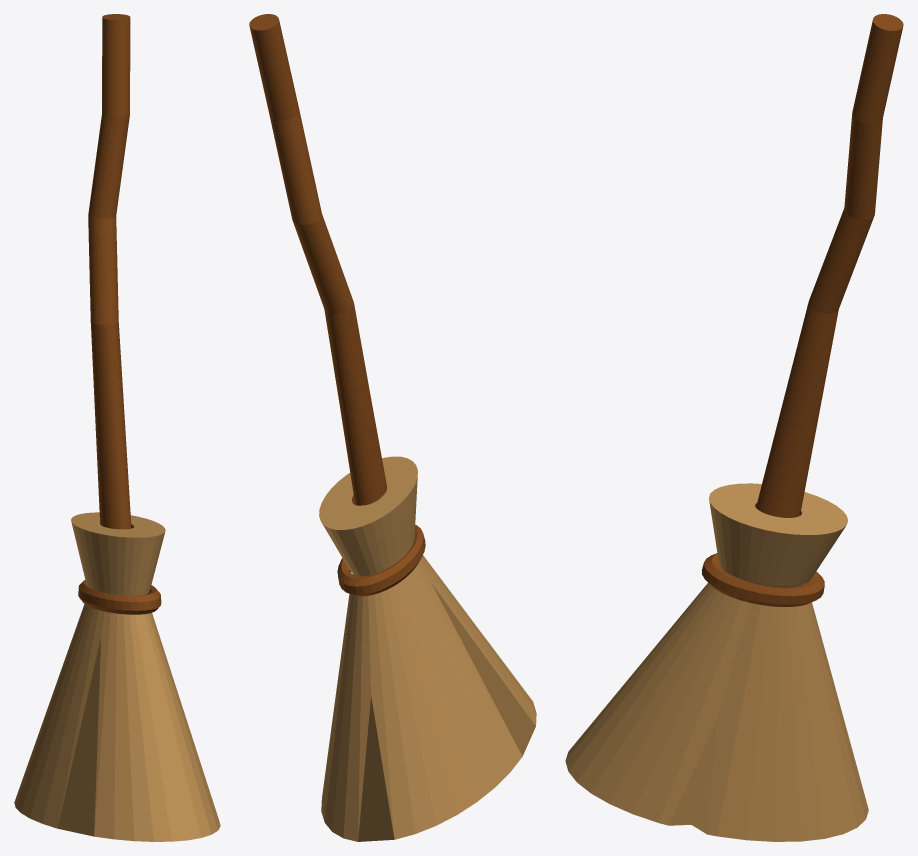
Rendered from broom.glb.
3 views of the same model, side by side, from view 1: azimuth 30°, elevation 25°; view 2: azimuth 150°, elevation 25°; view 3: azimuth 270°, elevation 25° (orthographic). The views are drawn at different scales.
Parts seen in each view (by area): view 1: Circle.003, Circle.001, Circle.002; view 2: Circle.003, Circle.001, Circle.002; view 3: Circle.003, Circle.001, Circle.002.
Boxes of the visible parts, <box> form: Circle.003: <box>14,512,220,841</box>; Circle.001: <box>88,14,133,529</box>; Circle.002: <box>78,580,161,614</box>; Circle.003: <box>319,456,536,841</box>; Circle.001: <box>249,14,386,505</box>; Circle.002: <box>337,525,425,596</box>; Circle.003: <box>565,483,868,841</box>; Circle.001: <box>755,14,903,517</box>; Circle.002: <box>701,553,824,606</box>.
Size of the model in its own units: 0.1968 by 0.8658 by 0.3178.
